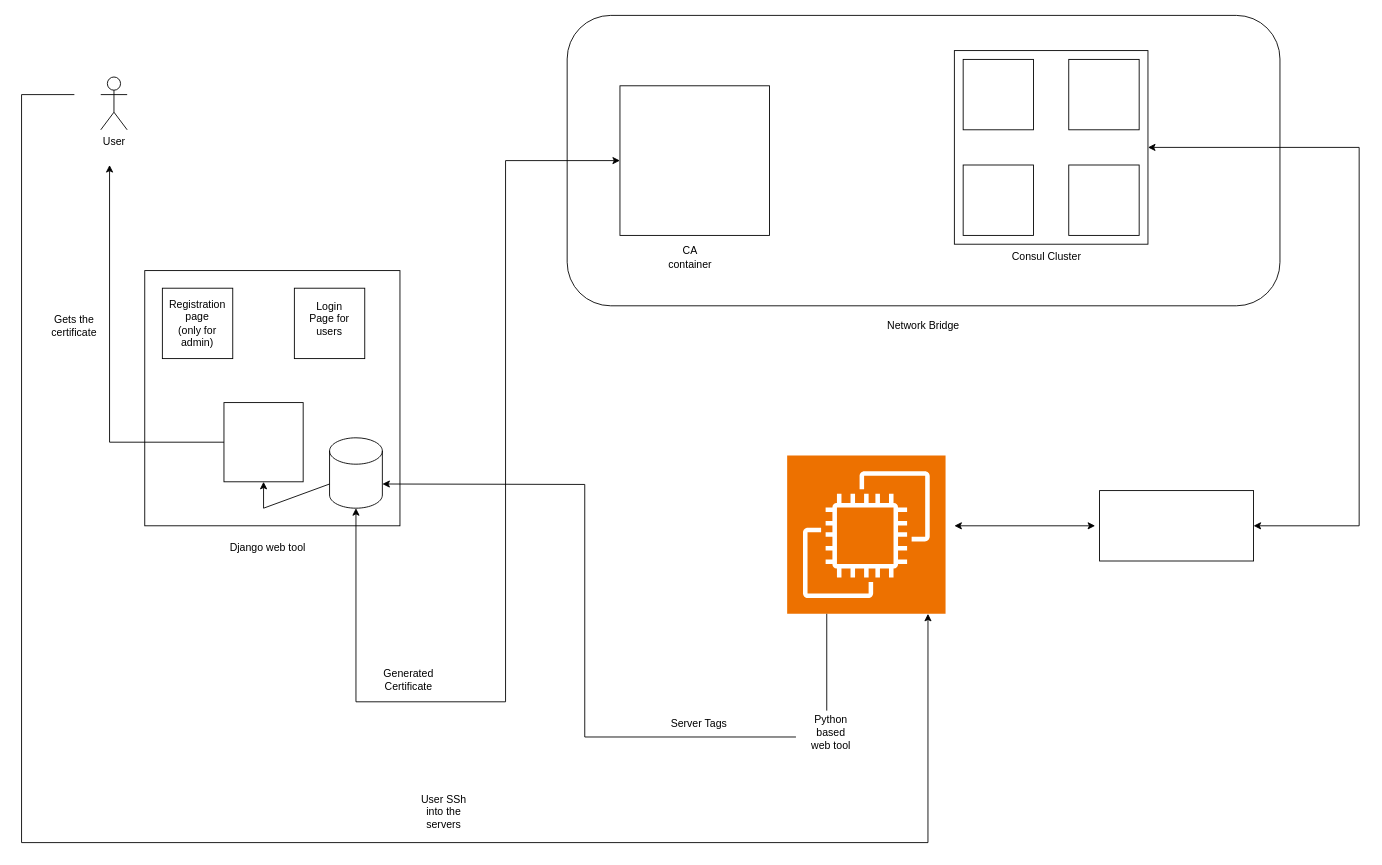
This 1382x865 diagram has some shape labels left out. Here are the shapes that lost their labels. From the top down, the centre of each, then its label:
the point at 263,442: Certificate Request page with piublic key submission
the point at 1176,525: Confd
